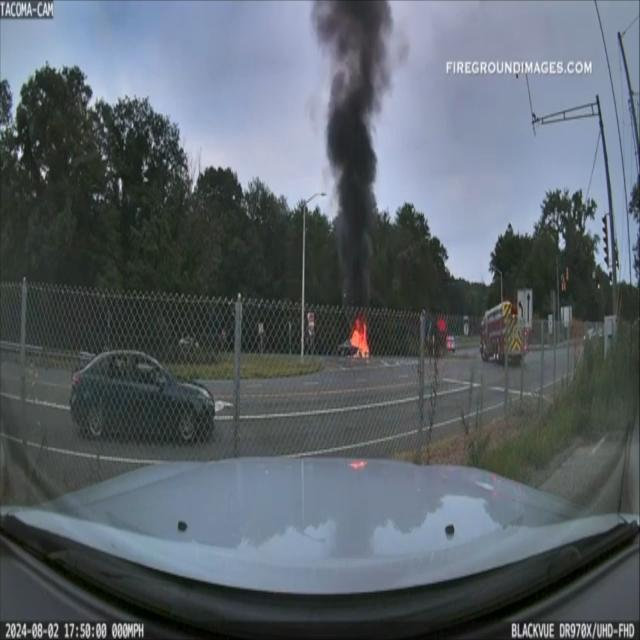fire: (346, 318, 370, 358)
